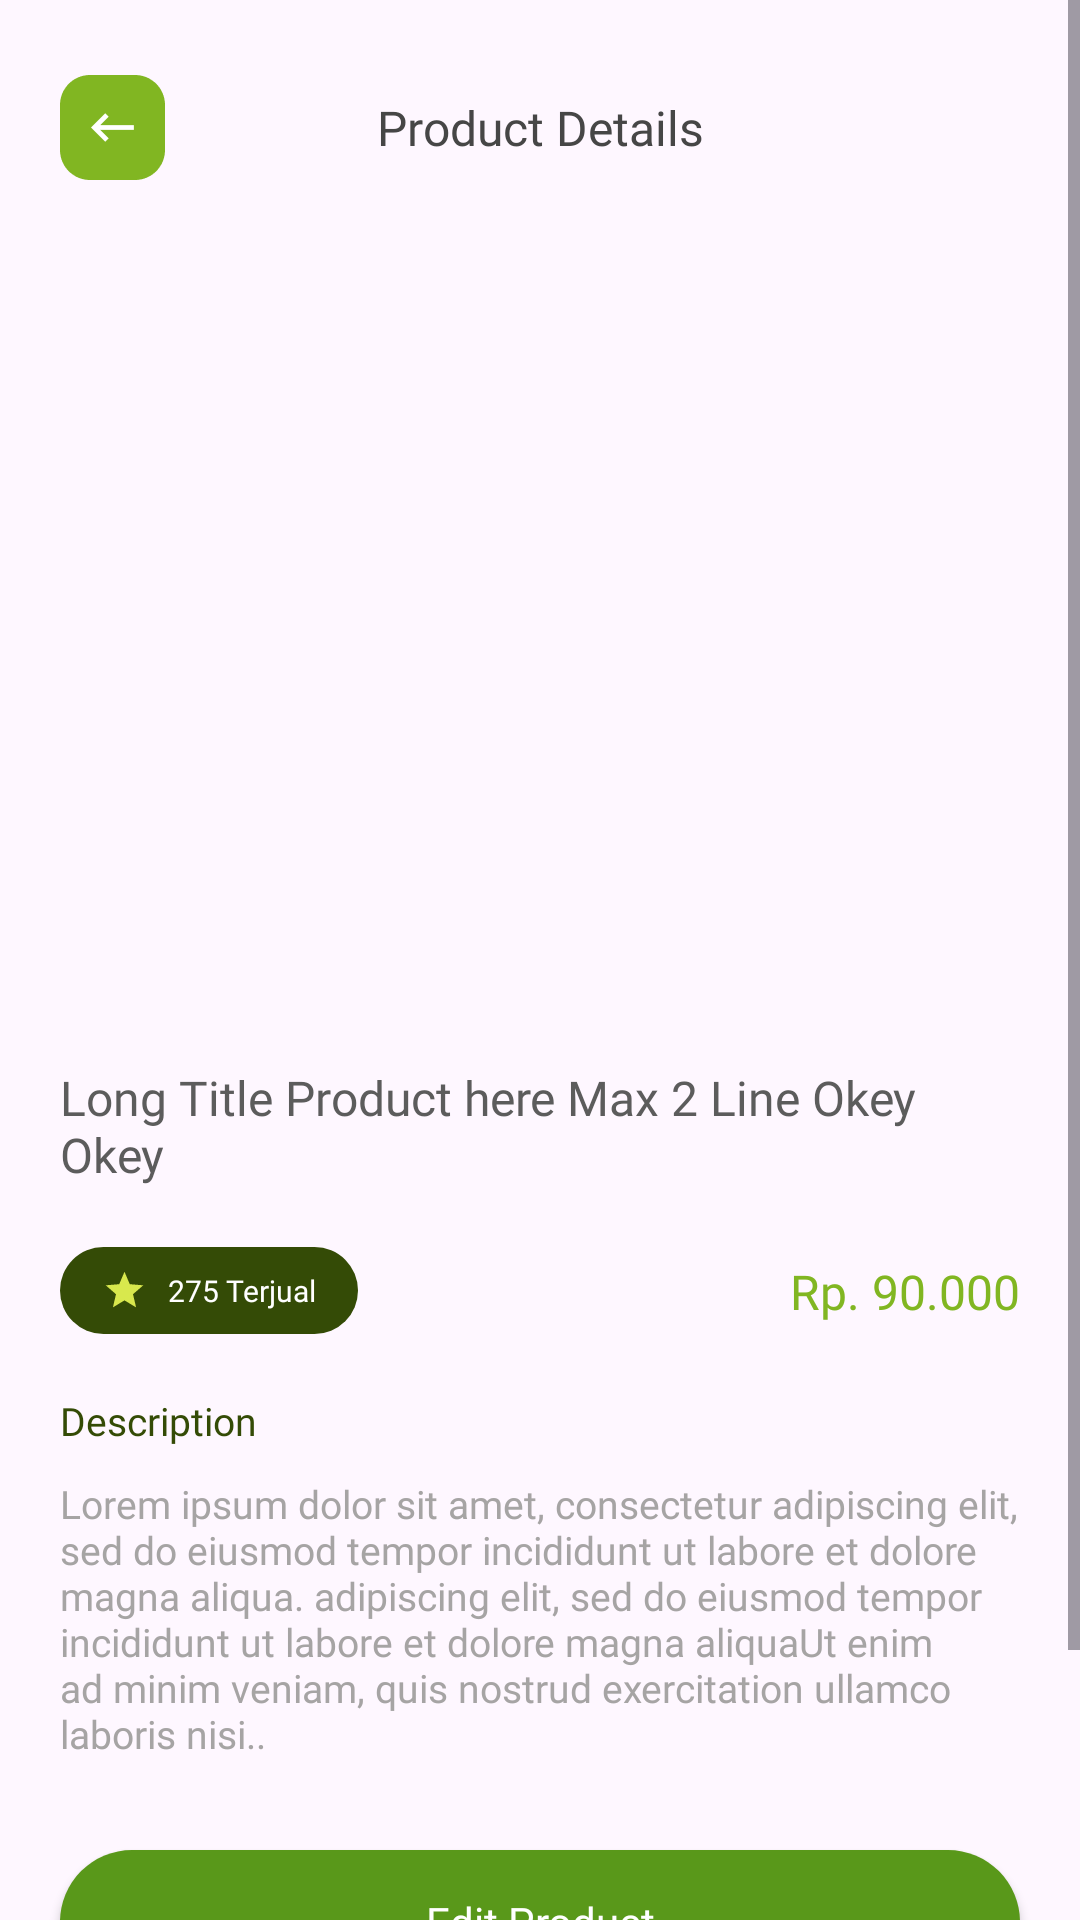

Point at icon controls on the screen. Image size 1080*1920, points as point (x, y).
back: point (112, 127)
